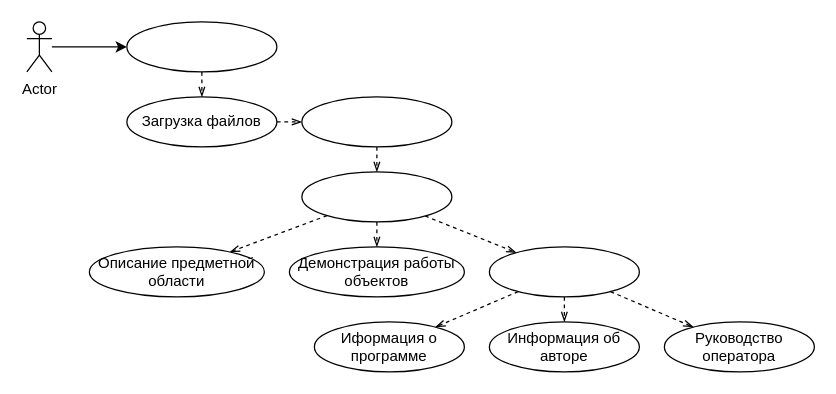
This 836x394 diagram has some shape labels left out. The shapes that lost their labels are listed below. From the top down, each one's centre as x and y in pixels, then its label:
At point (201, 46): "Запуск программы".
At point (376, 121): "Выбор языка для работы".
At point (376, 196): "Начальный экран".
At point (563, 271): "Система помощи".
